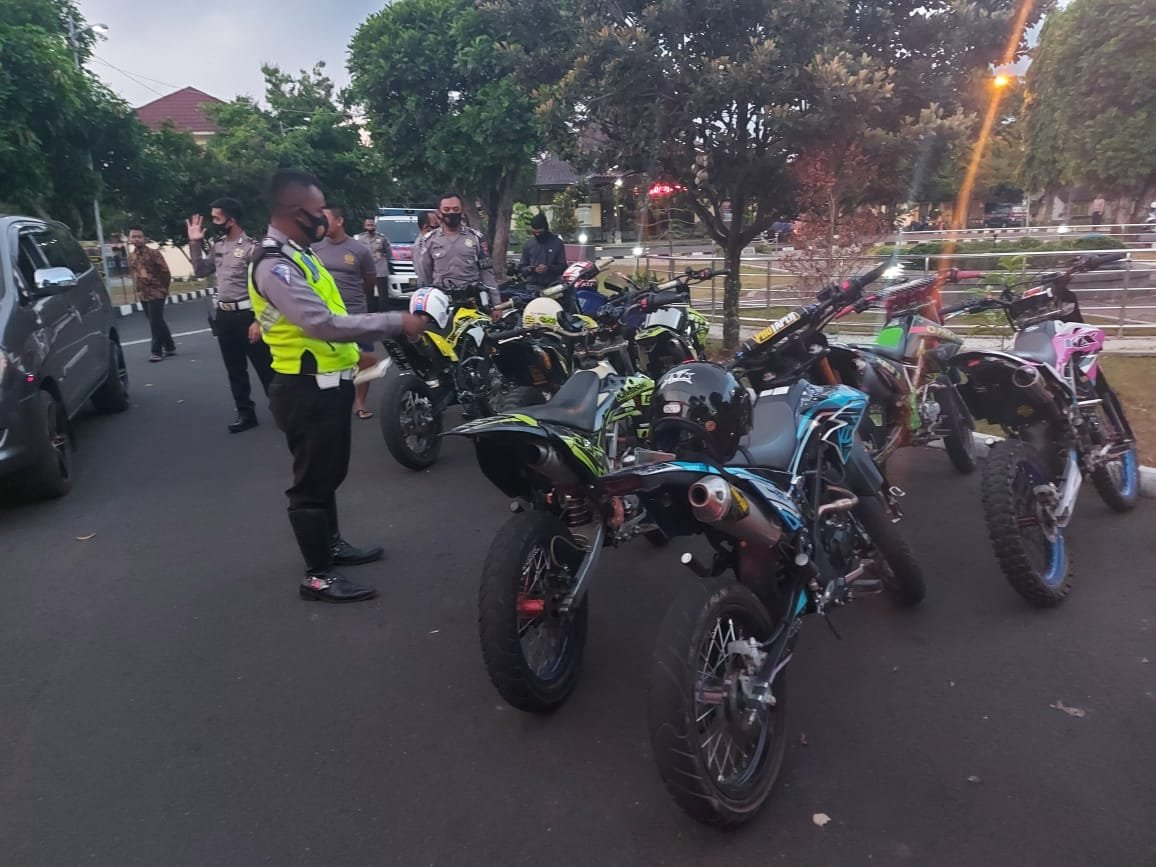motor: (581, 323, 940, 813)
